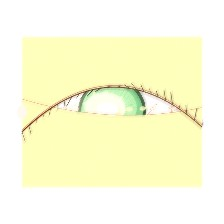corneal_ulcer: (72, 81, 138, 135)
